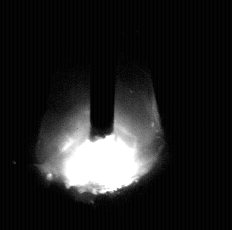arame: (90, 0, 115, 142)
poca: (35, 0, 164, 230)
